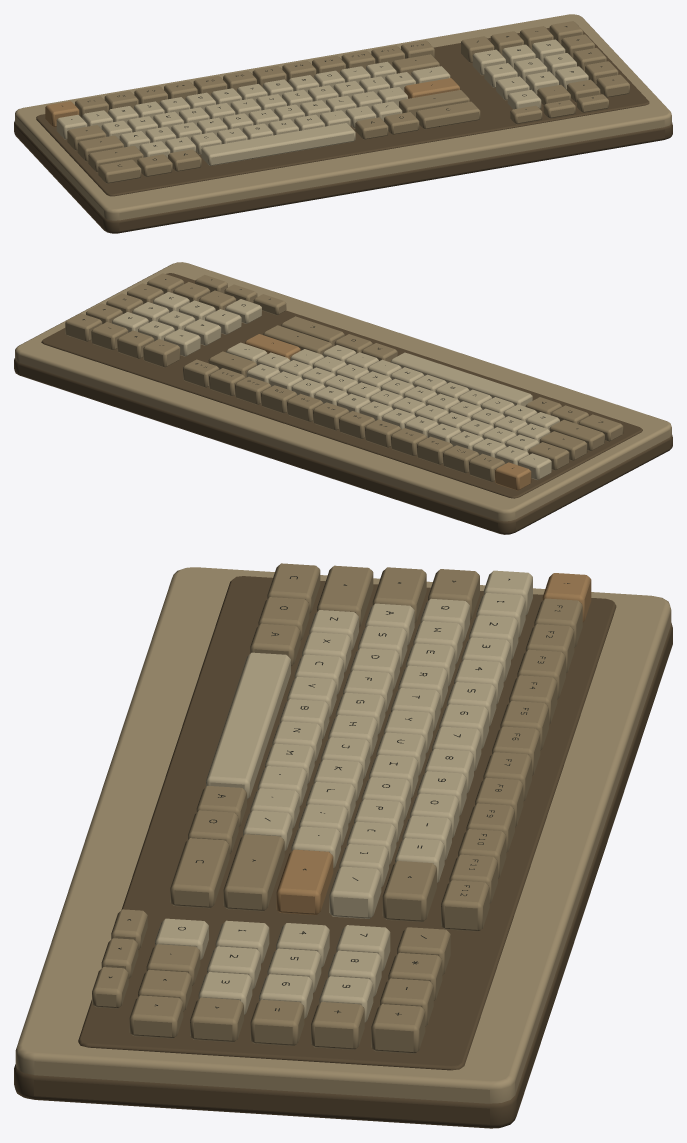
File: SM_StudyKeyboard.fbx
3 renders of one model, top to bottom at view 1: azimuth 30°, elevation 25°; view 2: azimuth 150°, elevation 25°; view 3: azimuth 270°, elevation 25°, orthographic. The views are drawn at different scales.
Visible parts, largest first — view 1: SM_StudyKeyboard; view 2: SM_StudyKeyboard; view 3: SM_StudyKeyboard.
Part boxes in pixels (bbox=[...]): SM_StudyKeyboard: bbox=[14, 14, 672, 233]; SM_StudyKeyboard: bbox=[14, 262, 672, 534]; SM_StudyKeyboard: bbox=[14, 563, 672, 1128].
Bounding box in the file's own units: 0.3854 × 0.2061 × 0.0294.
